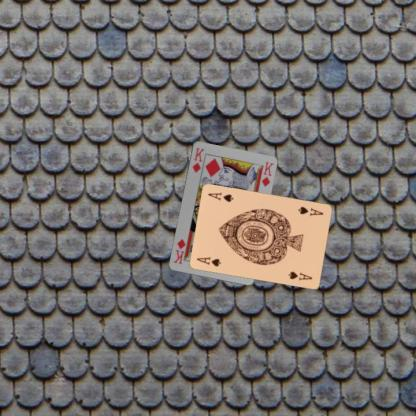As: (296, 203, 325, 217), (194, 254, 223, 268)
Kd: (190, 145, 205, 173)
